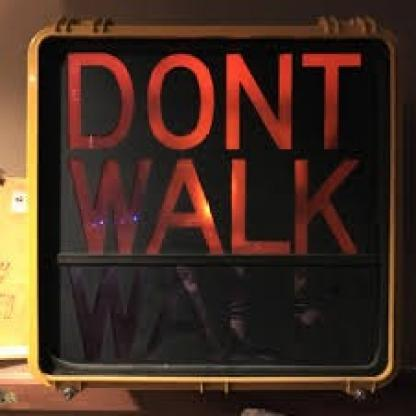Don-t Walk: (29, 27, 392, 384)
